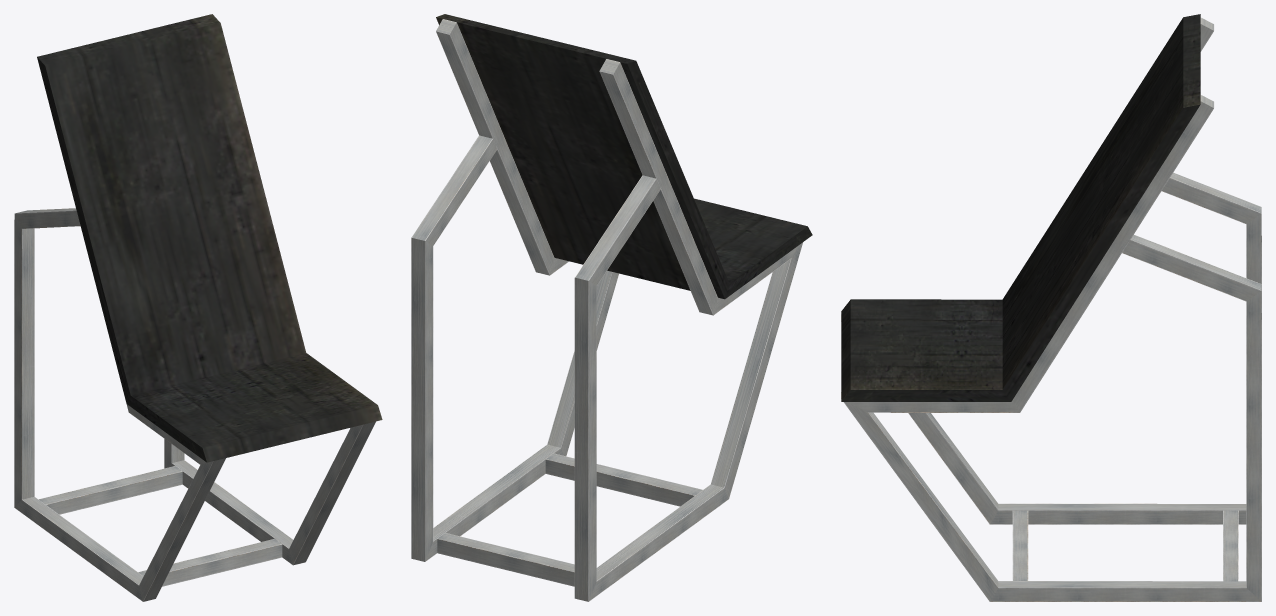
The model's file is M_Home_Garden_Machine2.fbx.
3 views of the same model, side by side, from view 1: azimuth 30°, elevation 25°; view 2: azimuth 150°, elevation 25°; view 3: azimuth 270°, elevation 25° (orthographic). The views are drawn at different scales.
Parts seen in each view (by area): view 1: M_Home_Garden_Machine2; view 2: M_Home_Garden_Machine2; view 3: M_Home_Garden_Machine2.
Boxes of the visible parts, x1,y1,x2,y2 form: M_Home_Garden_Machine2: (14, 14, 382, 601); M_Home_Garden_Machine2: (411, 14, 812, 601); M_Home_Garden_Machine2: (841, 14, 1261, 601).
Bounding box in the file's own units: 49.7 × 128 × 97.63.
